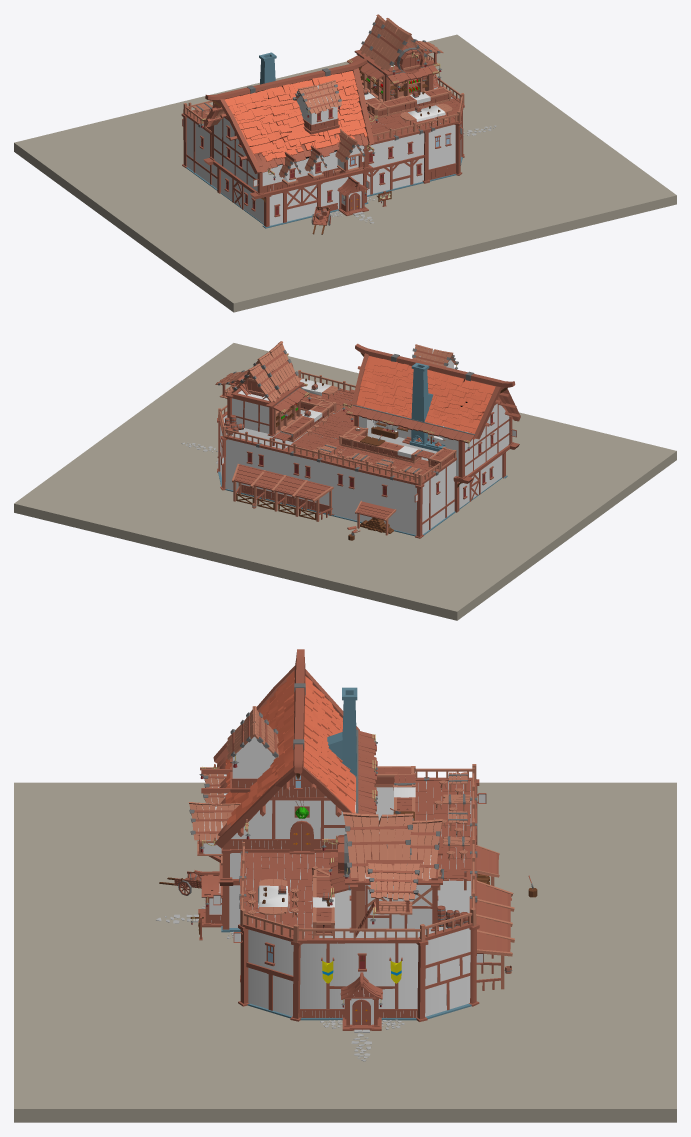
Rendered from Taverna.fbx.
3 renders of one model, top to bottom at view 1: azimuth 30°, elevation 25°; view 2: azimuth 150°, elevation 25°; view 3: azimuth 270°, elevation 25°, orthographic. The views are drawn at different scales.
Parts seen in each view (by area): view 1: ground, house; view 2: ground, house; view 3: ground, house.
Part boxes in pixels (bbox=[...]): ground: bbox=[14, 34, 676, 312]; house: bbox=[181, 14, 496, 234]; ground: bbox=[14, 343, 676, 620]; house: bbox=[181, 341, 520, 540]; ground: bbox=[14, 782, 676, 1122]; house: bbox=[156, 649, 537, 1061].
Bounding box in the file's own units: 1518 × 458 × 1304.
